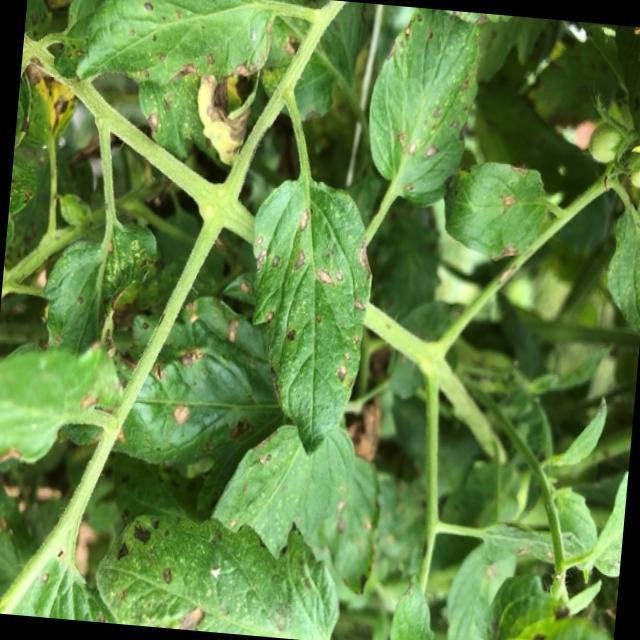Septoria: (238, 188, 381, 436), (109, 514, 308, 634), (110, 0, 273, 97), (392, 26, 476, 202)
